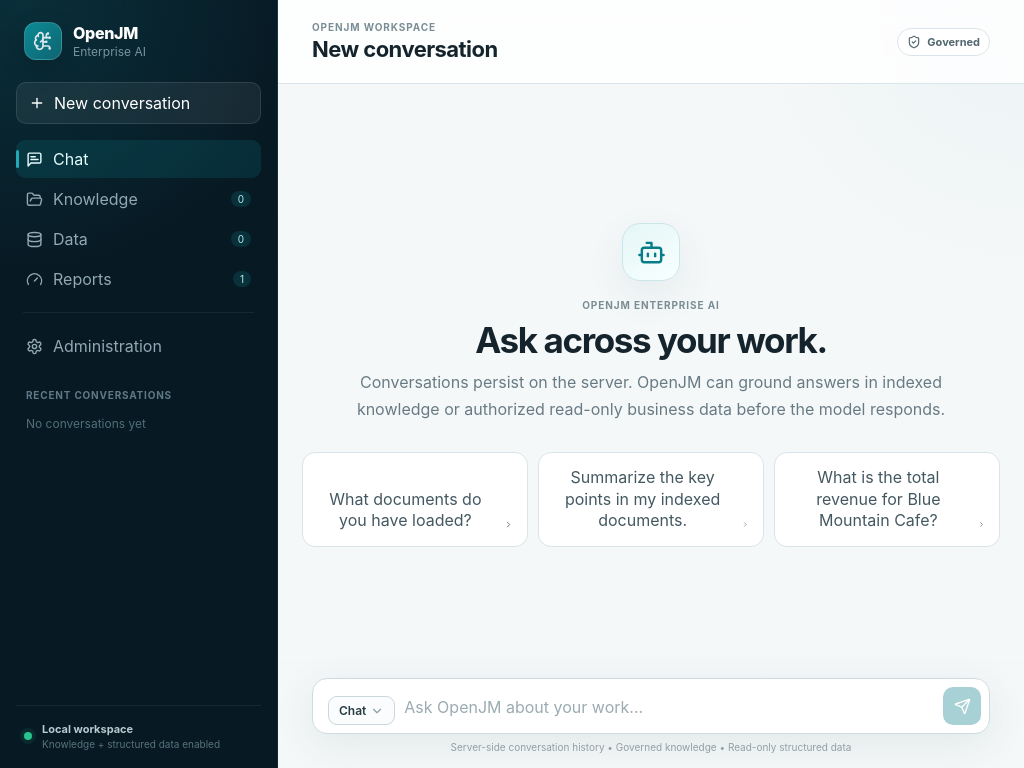
Test: a 409 while reopening never leaves cached snapshot evidence visible
The width and height of the screenshot is (1024, 768).
Click the button "Reports 1": (138, 279) top-left (16, 260), bottom-right (261, 298)
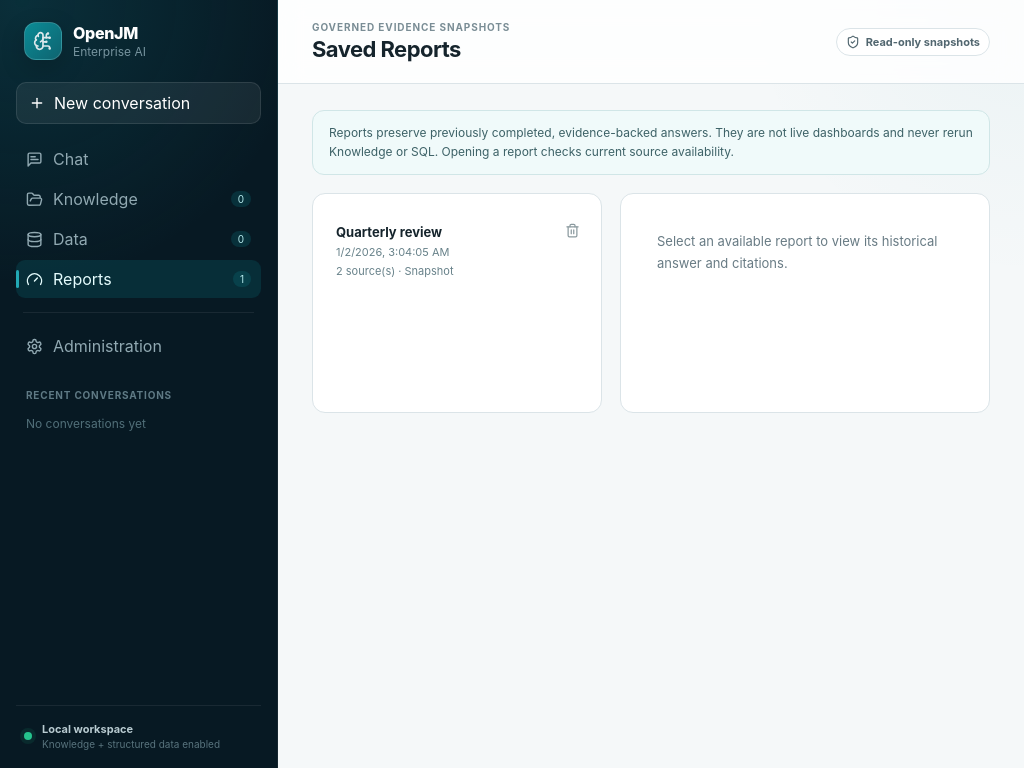
Click the button "Quarterly review 1/2/2026, 3:04:05 AM 2 source(s) · Snapshot": (440, 251) top-left (327, 215), bottom-right (552, 287)
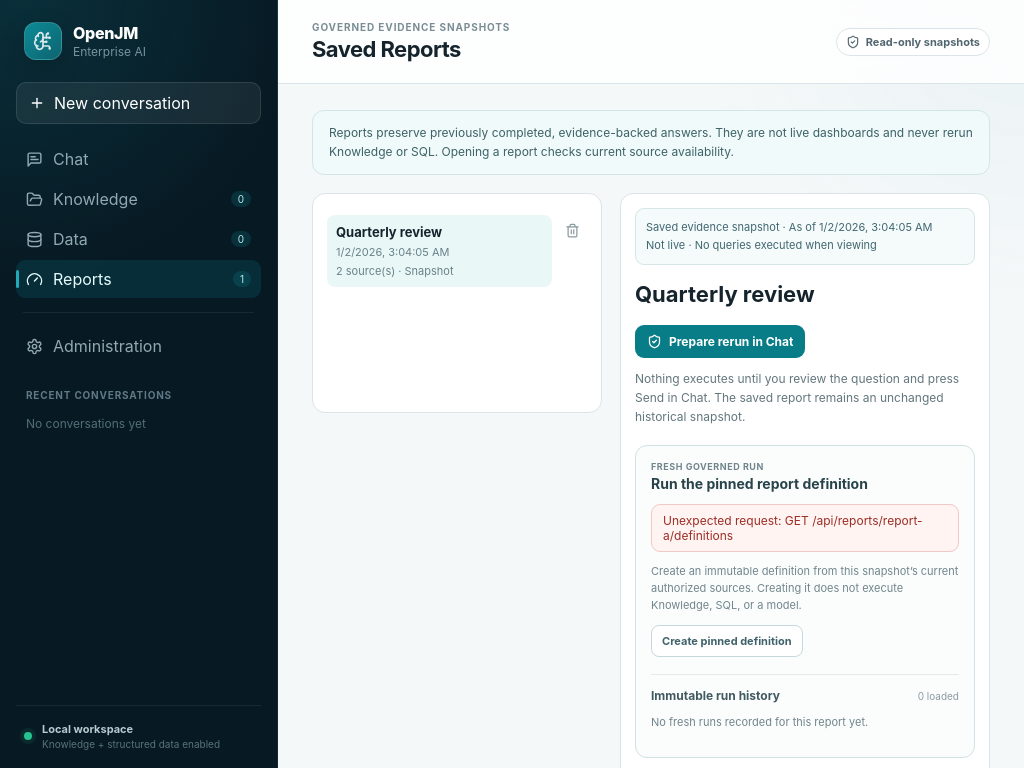
Click the button "Reports 1": (138, 279) top-left (16, 260), bottom-right (261, 298)
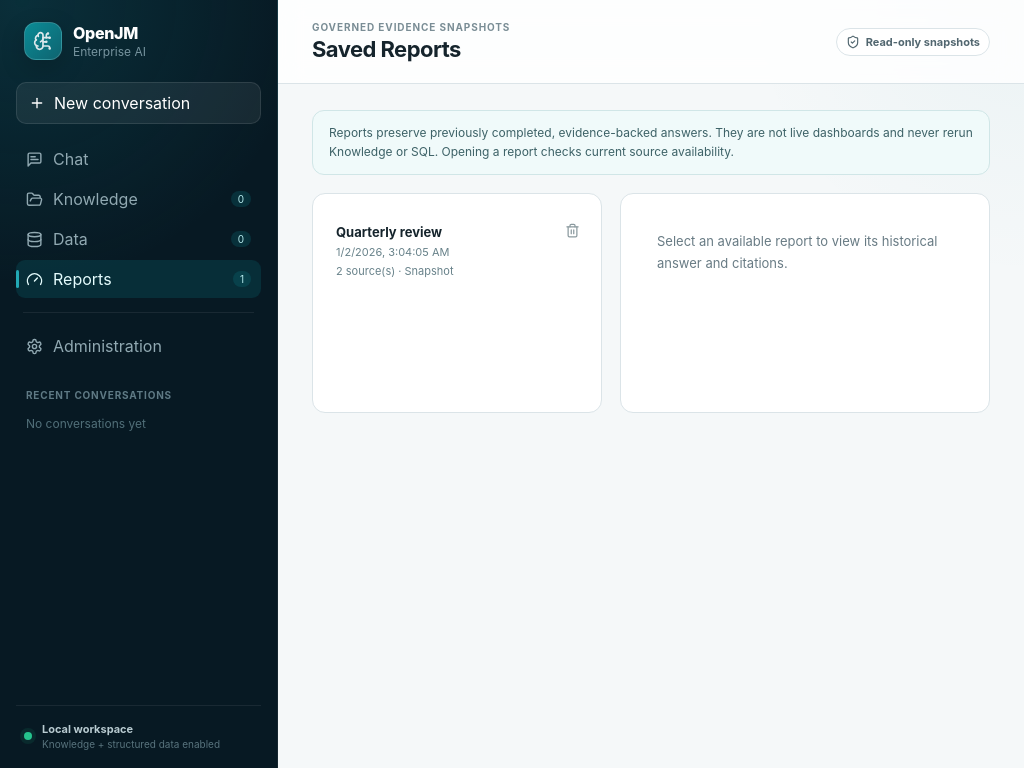
Click the button "Quarterly review 1/2/2026, 3:04:05 AM 2 source(s) · Snapshot": (440, 251) top-left (327, 215), bottom-right (552, 287)
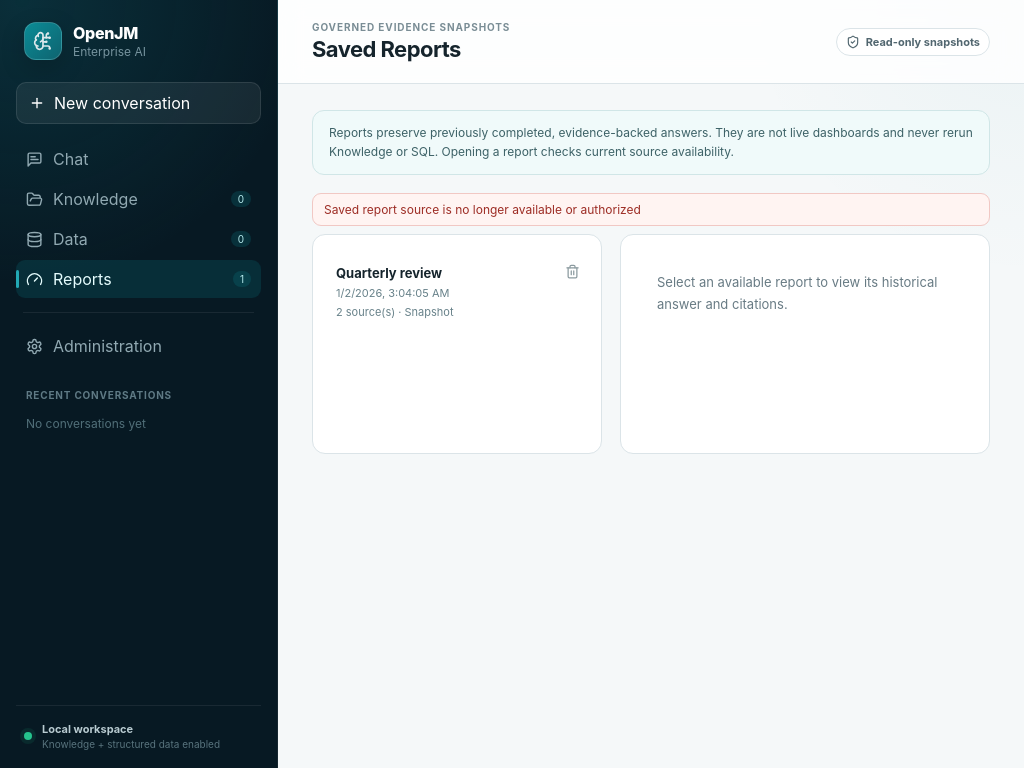
Expected: the text "Saved report source is no longer available or authorized" is shown, top-left (312, 193), bottom-right (990, 226)
